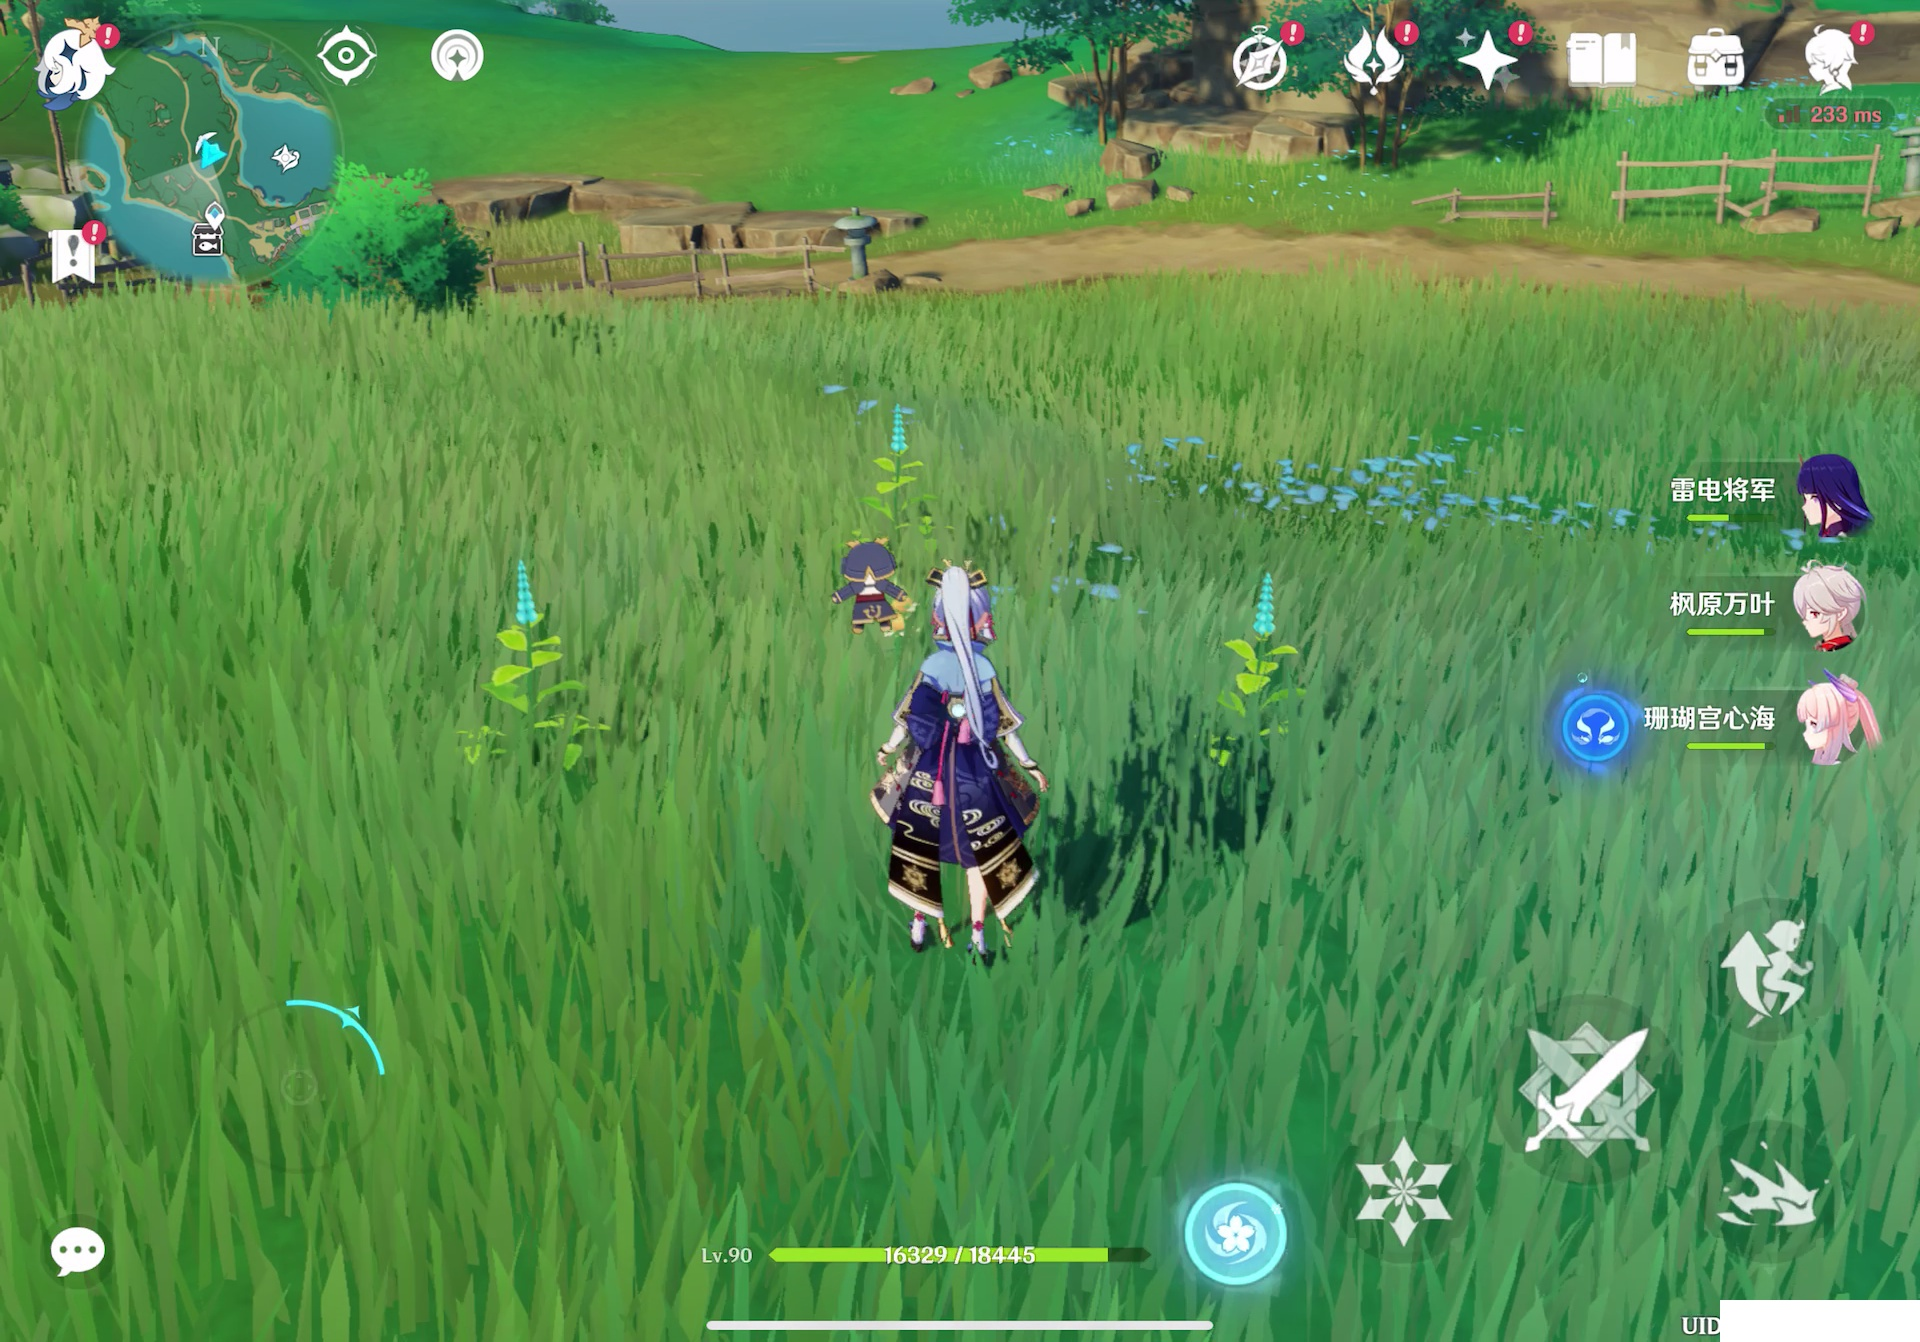没用的甜甜花: (870, 586, 925, 655)
没用的薄荷: (442, 548, 616, 796), (1180, 562, 1316, 794), (823, 391, 975, 548)
神里绫龟: (859, 565, 1085, 988)
